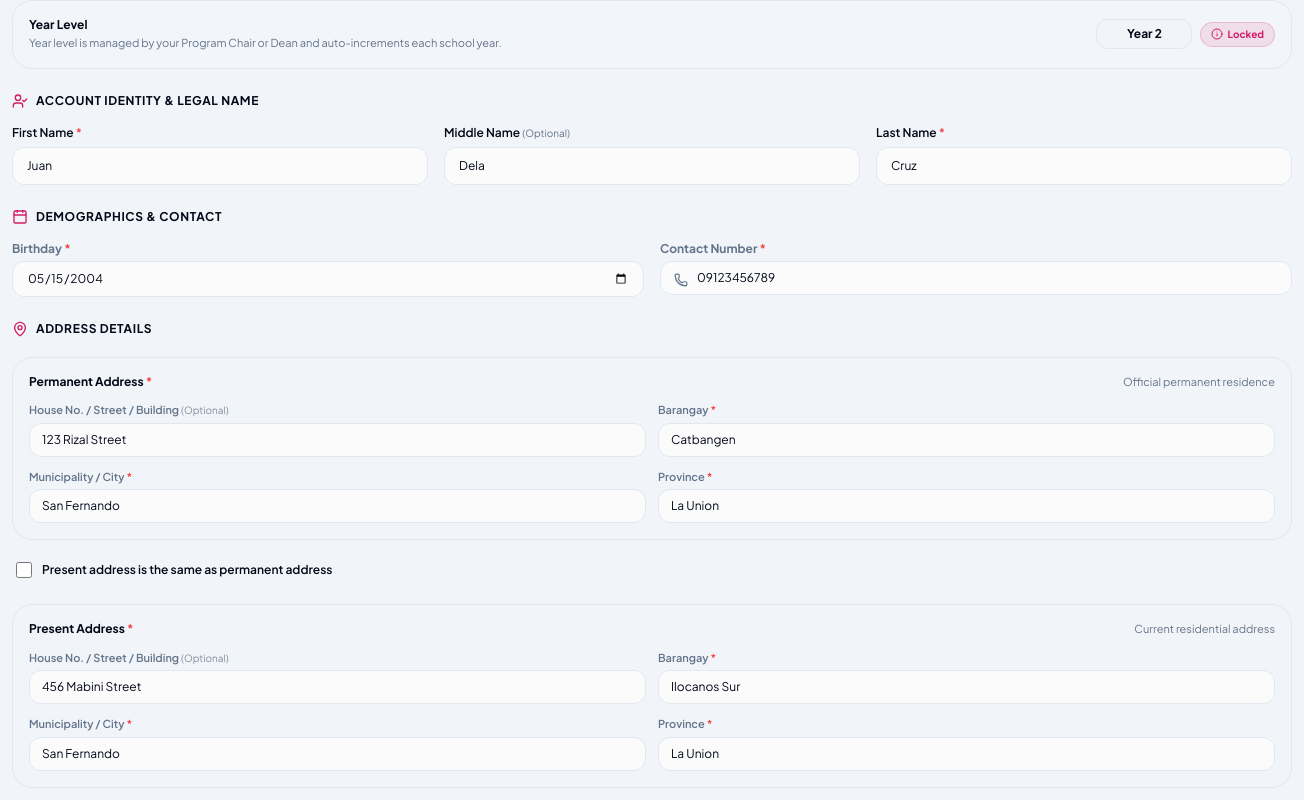
Test case: StudentProfileForm Component › mirrors permanent address and disables present address when sameAsPermanentAddress is checked
The image size is (1304, 800).
Expected: the field named "present house/street" is enabled, [29,670,646,704]
# Check the box
Click the checkbox labelled "Present address is the same as permanent address". click: (24, 570)
box: [16,562,32,578]
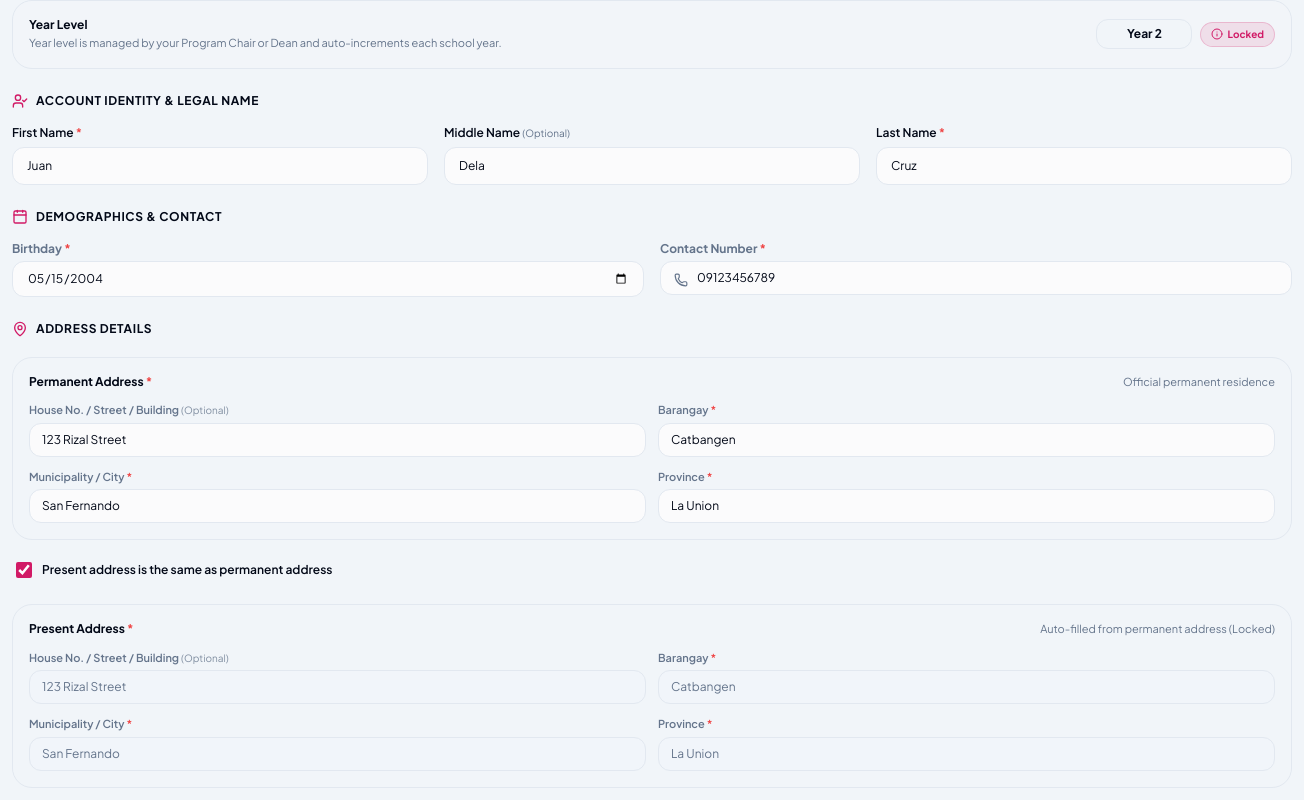
Expected: the checkbox labelled "Present address is the same as permanent address" is checked, [16,562,32,578]
Expected: the field named "present house/street" is disabled, [29,670,646,704]
Expected: the field named "present house/street" holds "123 Rizal Street", [29,670,646,704]
# Modifying permanent address also updates present address while checkbox is active
Replace the text in the field named "permanent house/street" with "999 New Highway". click: (338, 440)
box: [29,422,646,456]
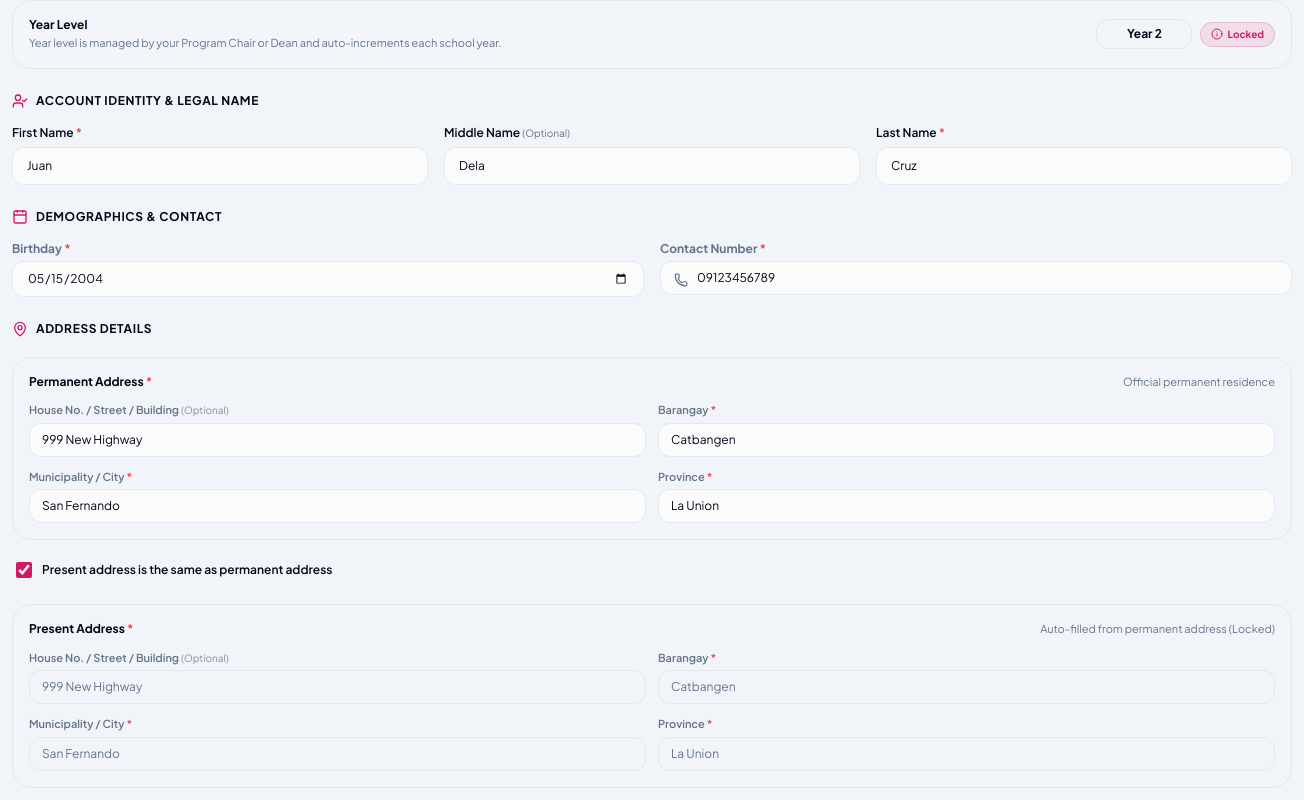
Expected: the field named "present house/street" holds "999 New Highway", [29,670,646,704]
# Unchecking re-enables present address for manual editing
Click the checkbox labelled "Present address is the same as permanent address". click: (24, 570)
box: [16,562,32,578]
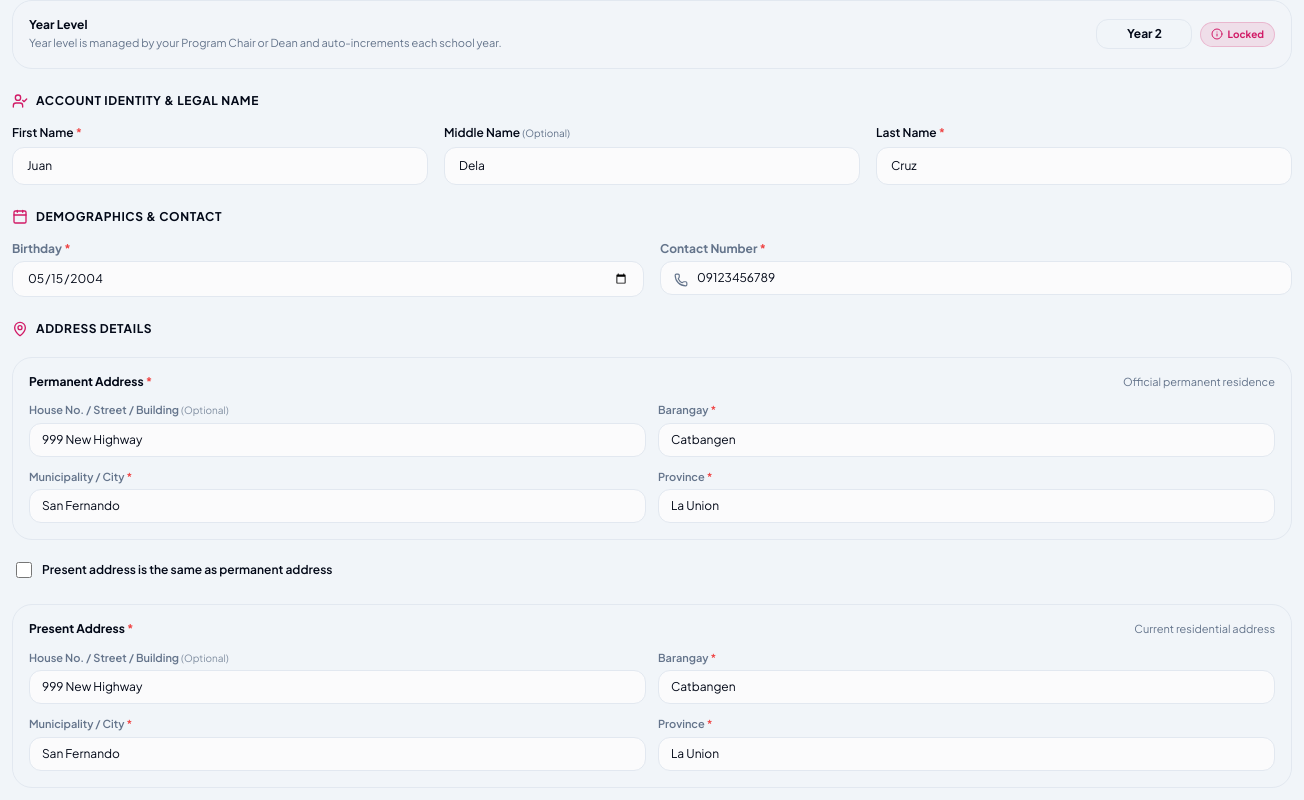
Expected: the checkbox labelled "Present address is the same as permanent address" is not checked, [16,562,32,578]
Expected: the field named "present house/street" is enabled, [29,670,646,704]
